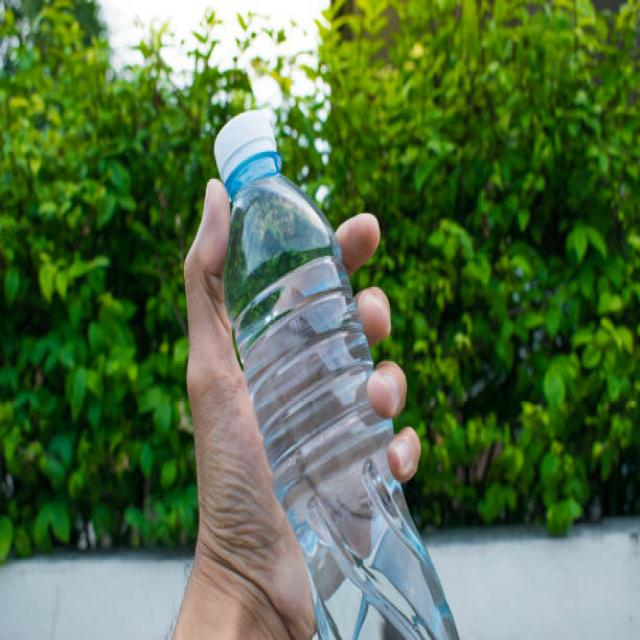plastic: (216, 125, 460, 640)
